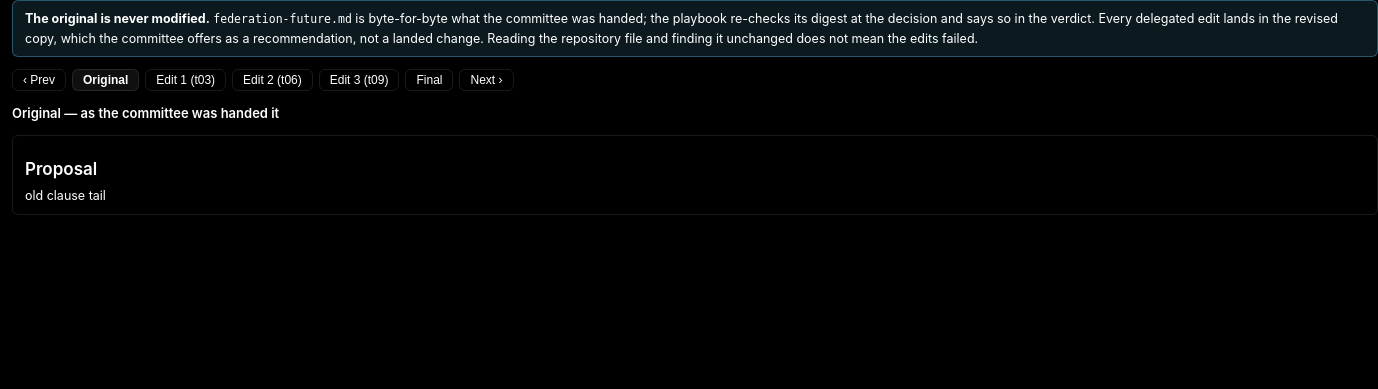
DocumentHistory › fetches only what the selected step shows: the previous version and its own
Expected: the element with test id "doc-markdown" is shown, [12,135,1377,215]
Click the button "Edit 2 (t06)" at (272, 80), box [232,69,313,91]
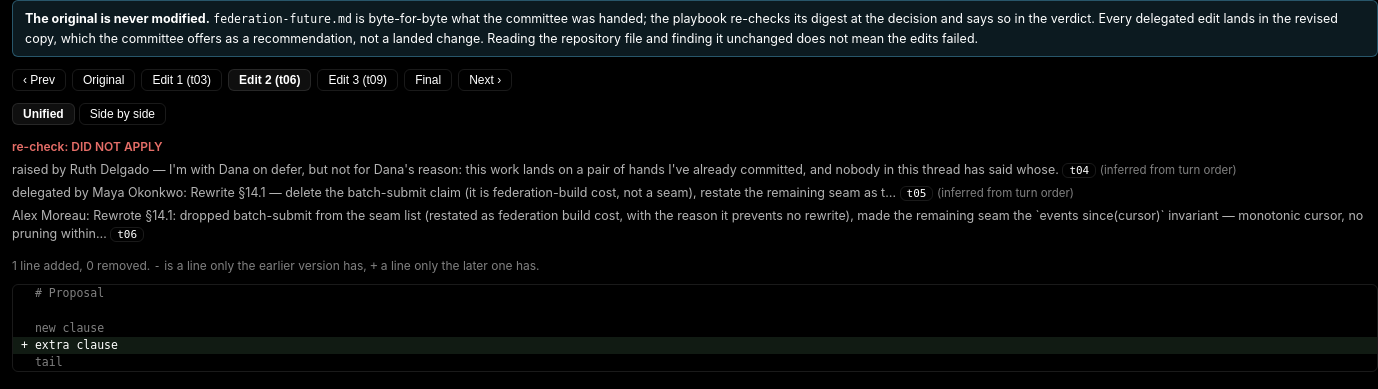
Expected: the element with test id "diff-rows" is shown, [12,284,1377,372]
